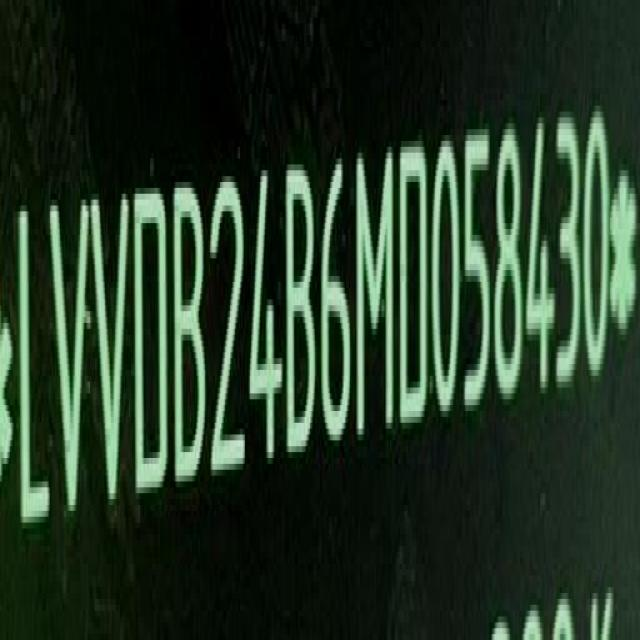0: (432, 132, 461, 426), (586, 116, 613, 384)
2: (209, 173, 248, 483)
4: (250, 169, 286, 475), (526, 120, 555, 402)
5: (461, 124, 491, 420), (555, 110, 583, 398)
6: (319, 154, 351, 459)
8: (496, 121, 526, 407)
B: (174, 178, 210, 495), (286, 157, 320, 460)
D: (132, 183, 168, 508), (398, 137, 431, 436)
L: (17, 198, 51, 544)
M: (358, 144, 397, 448)
V: (92, 190, 133, 524), (48, 192, 88, 534)
